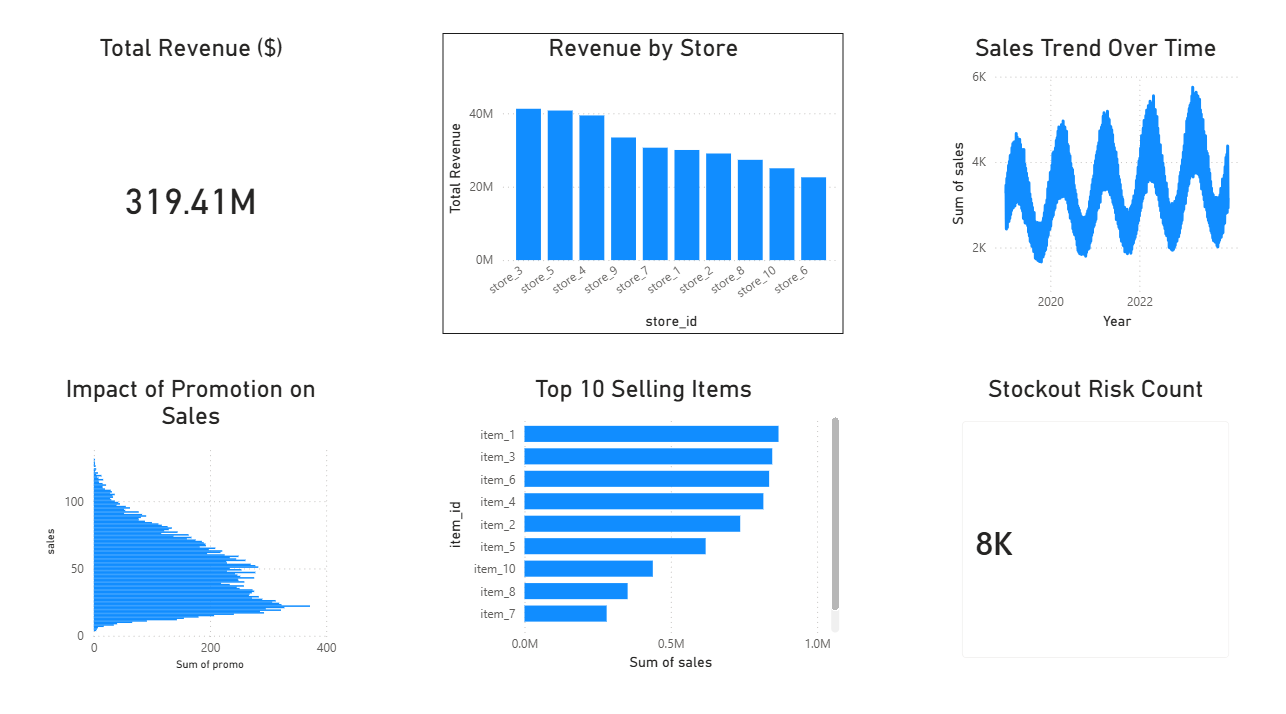

The dashboard page shown, as its layout file describes it:
{"tool":"powerbi","page":{"name":"Page 1","canvas":[1280,720],"ordinal":0},"visuals":[{"type":"card","title":"Total Revenue ($)","fields":{"Values":["sales_data.Total Revenue"]},"box":[40,40,300,300],"z":0},{"type":"clusteredColumnChart","title":"Revenue by Store","fields":{"Category":["sales_data.store_id"],"Y":["sales_data.Total Revenue"]},"box":[440,40,400,300],"z":1000},{"type":"lineChart","title":"Sales Trend Over Time","fields":{"Y":["Sum(sales_data.sales)"],"Category":["sales_data.date.Variation.Date Hierarchy.Year","sales_data.date.Variation.Date Hierarchy.Quarter","sales_data.date.Variation.Date Hierarchy.Month","sales_data.date.Variation.Date Hierarchy.Day"]},"box":[940,40,300,300],"z":2000},{"type":"barChart","title":"Impact of Promotion on Sales","fields":{"Y":["Sum(sales_data.promo)"],"Category":["sales_data.sales"]},"box":[40,380,300,300],"z":3000},{"type":"barChart","title":"Top 10 Selling Items","fields":{"Category":["sales_data.item_id"],"Y":["Sum(sales_data.sales)"]},"box":[440,380,400,300],"z":4000},{"type":"cardVisual","title":"Stockout Risk Count","fields":{"Data":["Sum(sales_data.Stockout_Risk)"]},"box":[940,380,300,300],"z":5000}]}

Visuals, with their boxes in screenshot pixels (x1, y1, x2, y2), scaled from the page's 1280x720 canvas onto the 1286x714 screenshot:
"Total Revenue ($)" card: box(40, 40, 342, 337)
"Revenue by Store" clusteredColumnChart: box(442, 40, 844, 337)
"Sales Trend Over Time" lineChart: box(944, 40, 1246, 337)
"Impact of Promotion on Sales" barChart: box(40, 377, 342, 674)
"Top 10 Selling Items" barChart: box(442, 377, 844, 674)
"Stockout Risk Count" cardVisual: box(944, 377, 1246, 674)
